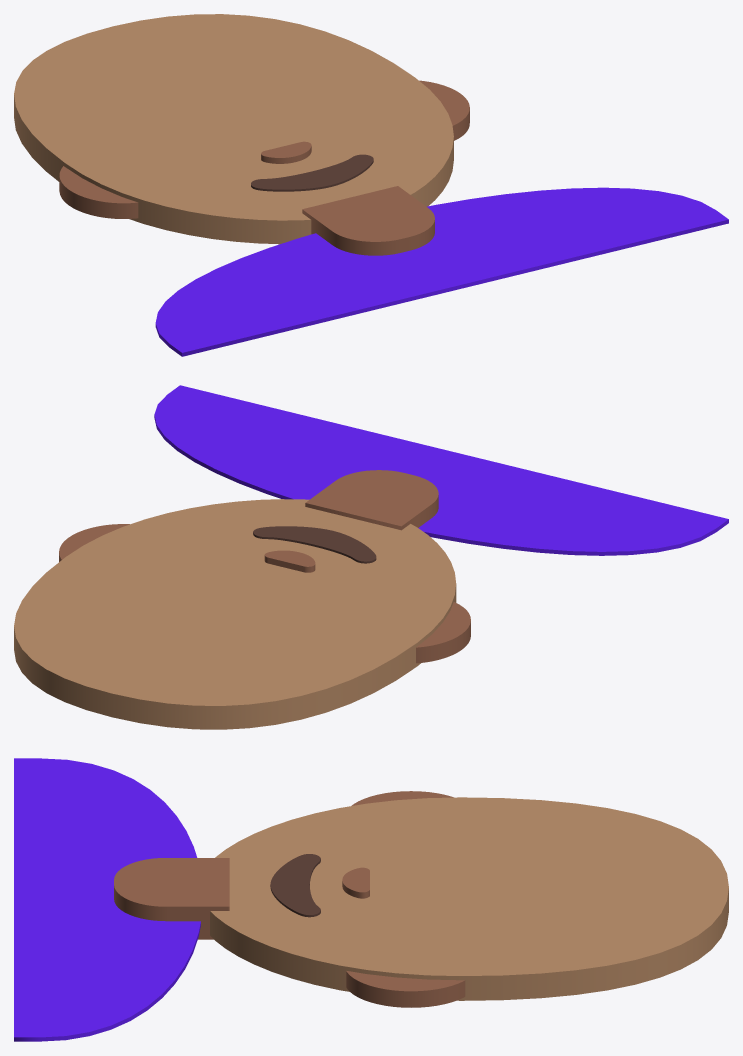
The model's file is emoji_u1f469_1f3fd_200d_1f9b2.glb.
3 views of the same model, one above another, from view 1: azimuth 30°, elevation 25°; view 2: azimuth 150°, elevation 25°; view 3: azimuth 270°, elevation 25° (orthographic). The views are drawn at different scales.
Visible parts, largest first — view 1: emoji_u1f469_1f3fd_200d_1f9b2; view 2: emoji_u1f469_1f3fd_200d_1f9b2; view 3: emoji_u1f469_1f3fd_200d_1f9b2.
Part boxes in pixels (left/top/right/bottom): emoji_u1f469_1f3fd_200d_1f9b2: left=14, top=14, right=728, bottom=356; emoji_u1f469_1f3fd_200d_1f9b2: left=14, top=385, right=728, bottom=729; emoji_u1f469_1f3fd_200d_1f9b2: left=14, top=758, right=728, bottom=1041.
Size of the model in its own units: 0.029 by 0.0018 by 0.0315.
